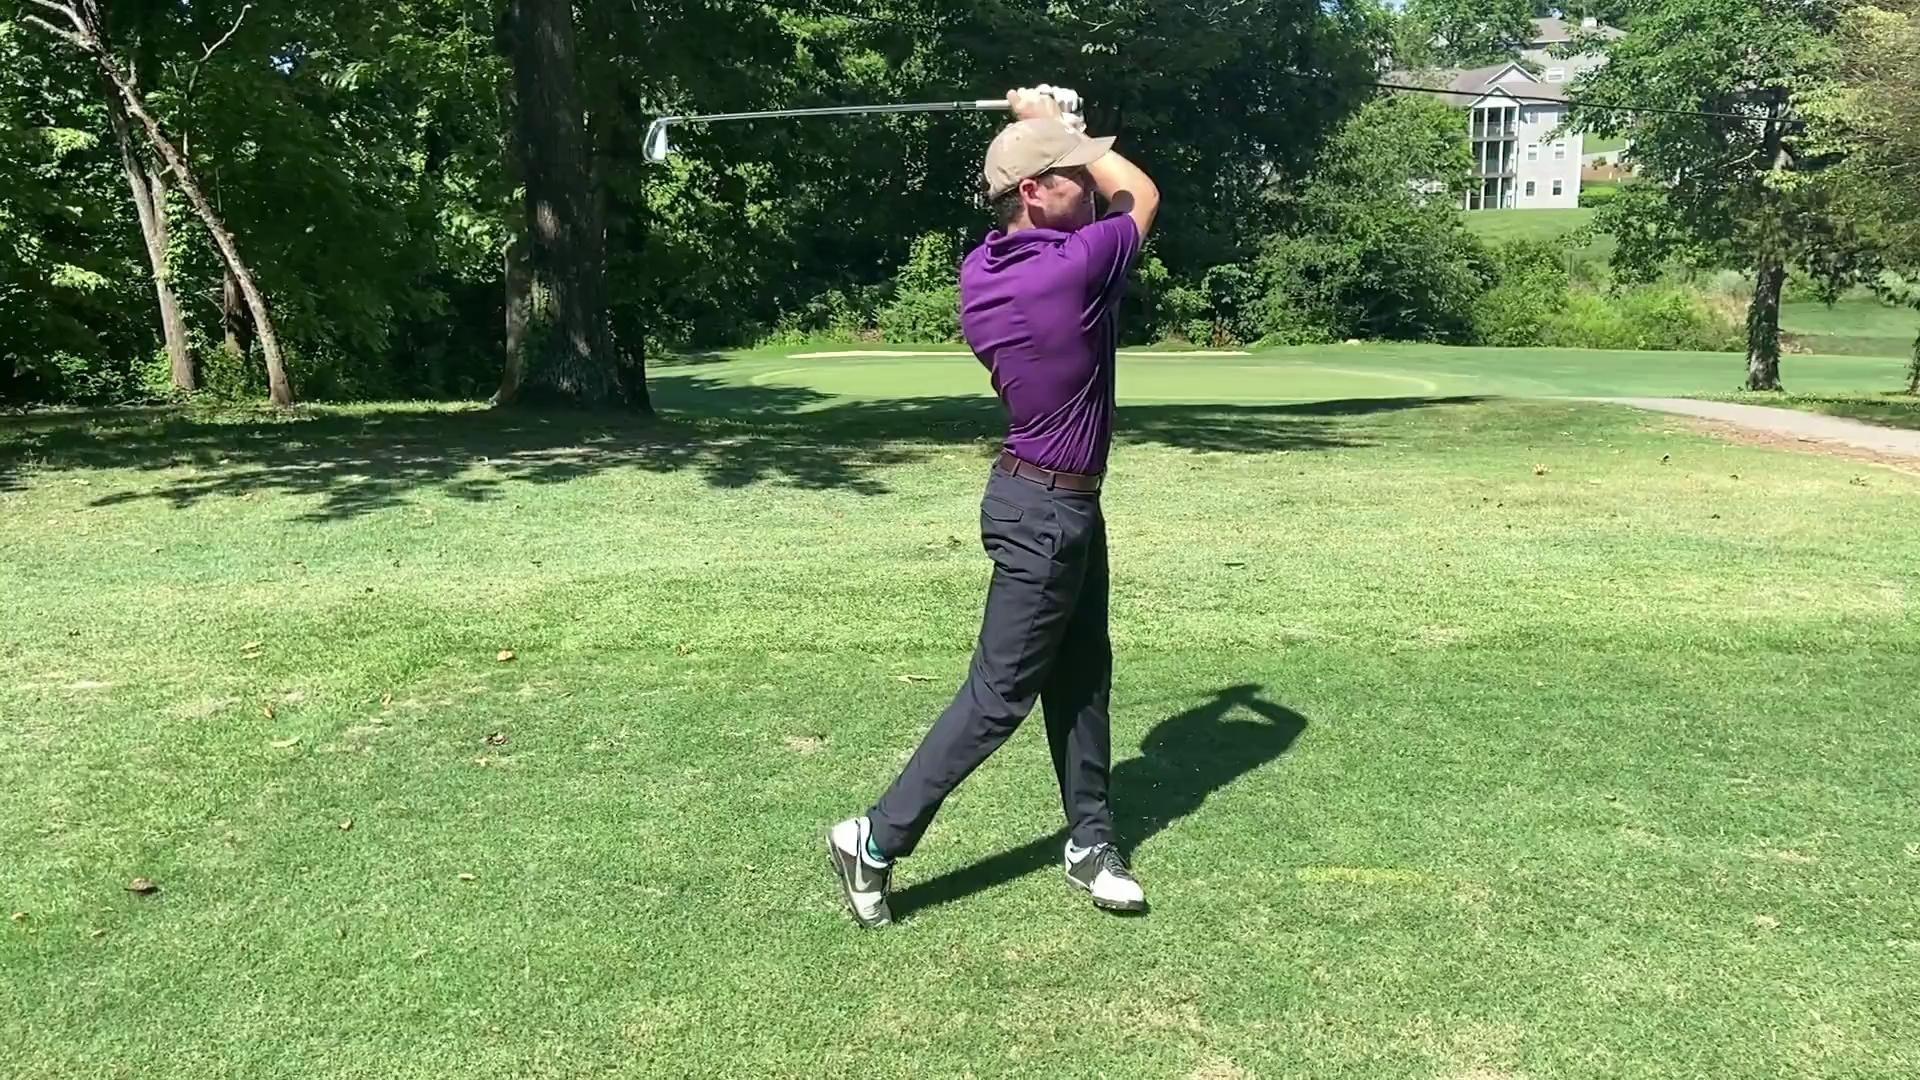ClubHead: (644, 111, 688, 166)
